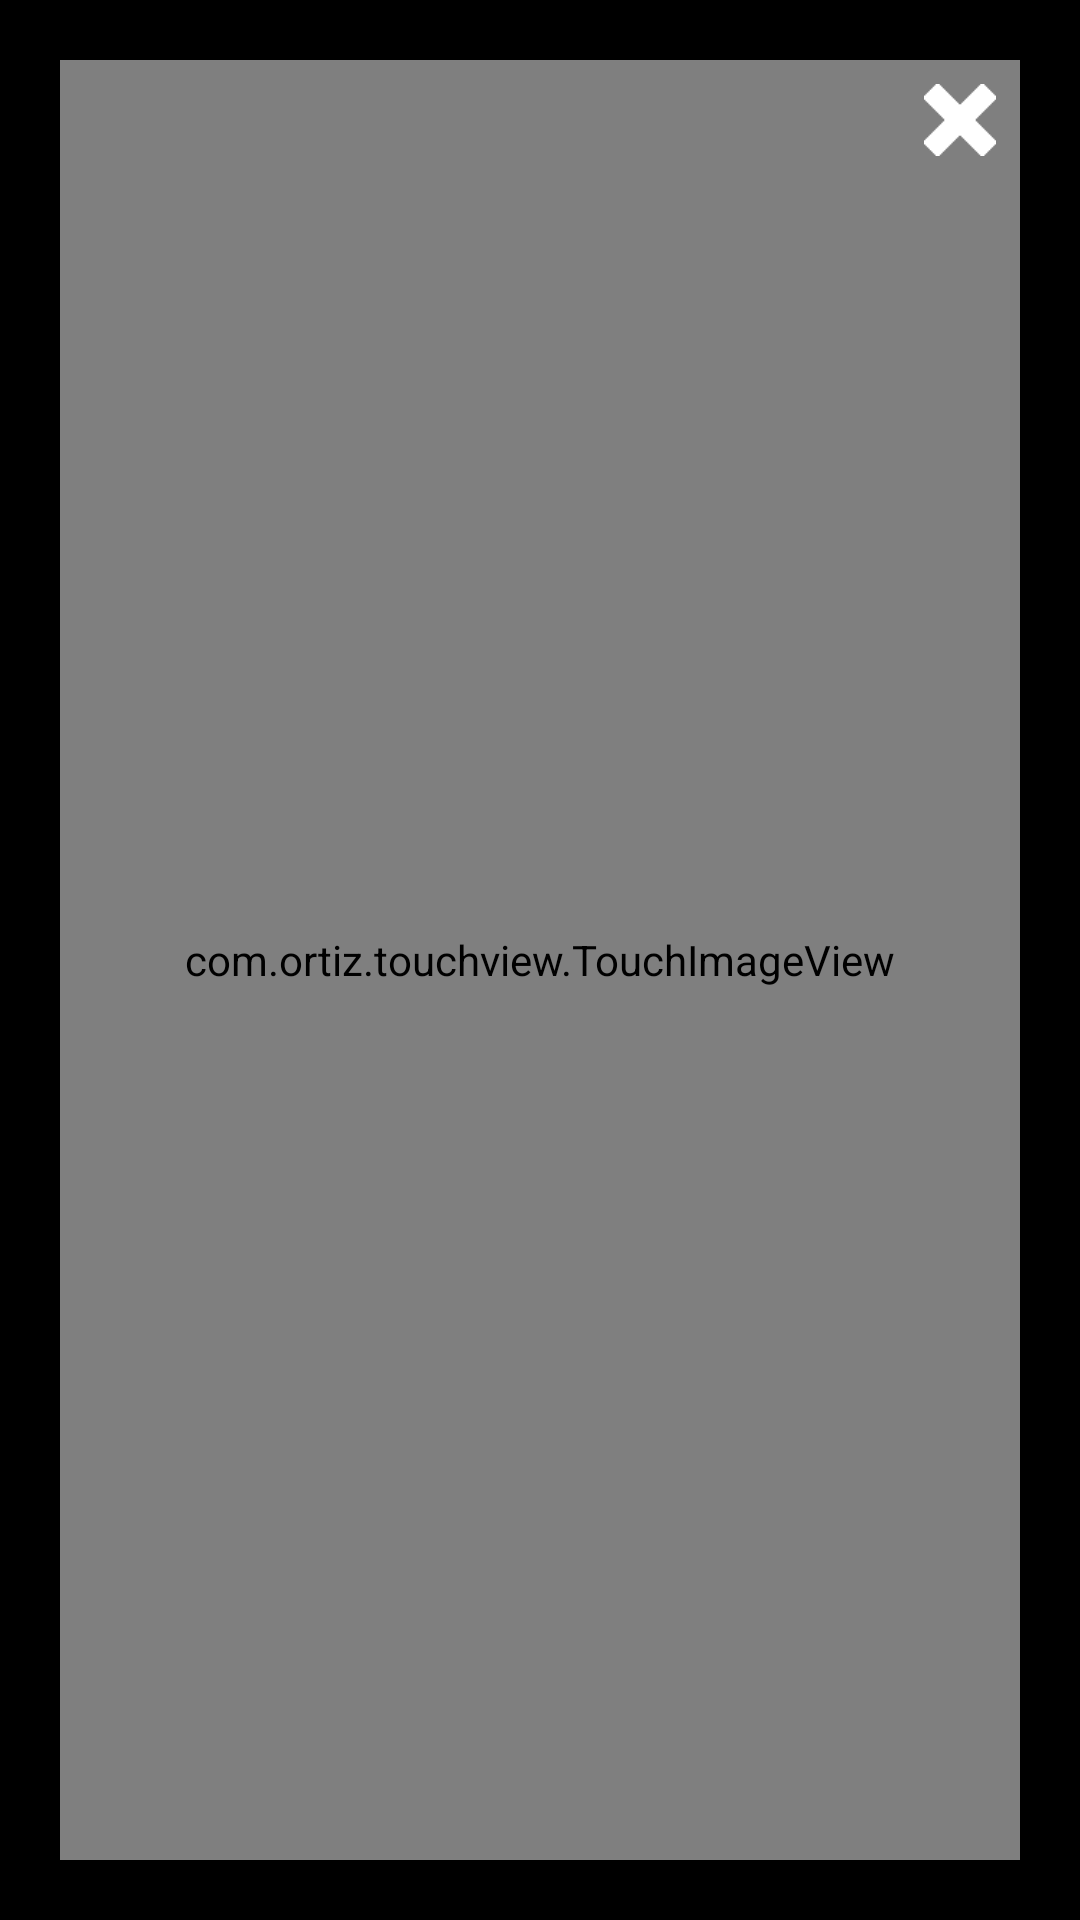

Named icons in this screenshot (1080 x 1920) and their centers, [x,y]:
cross: [960,120]
